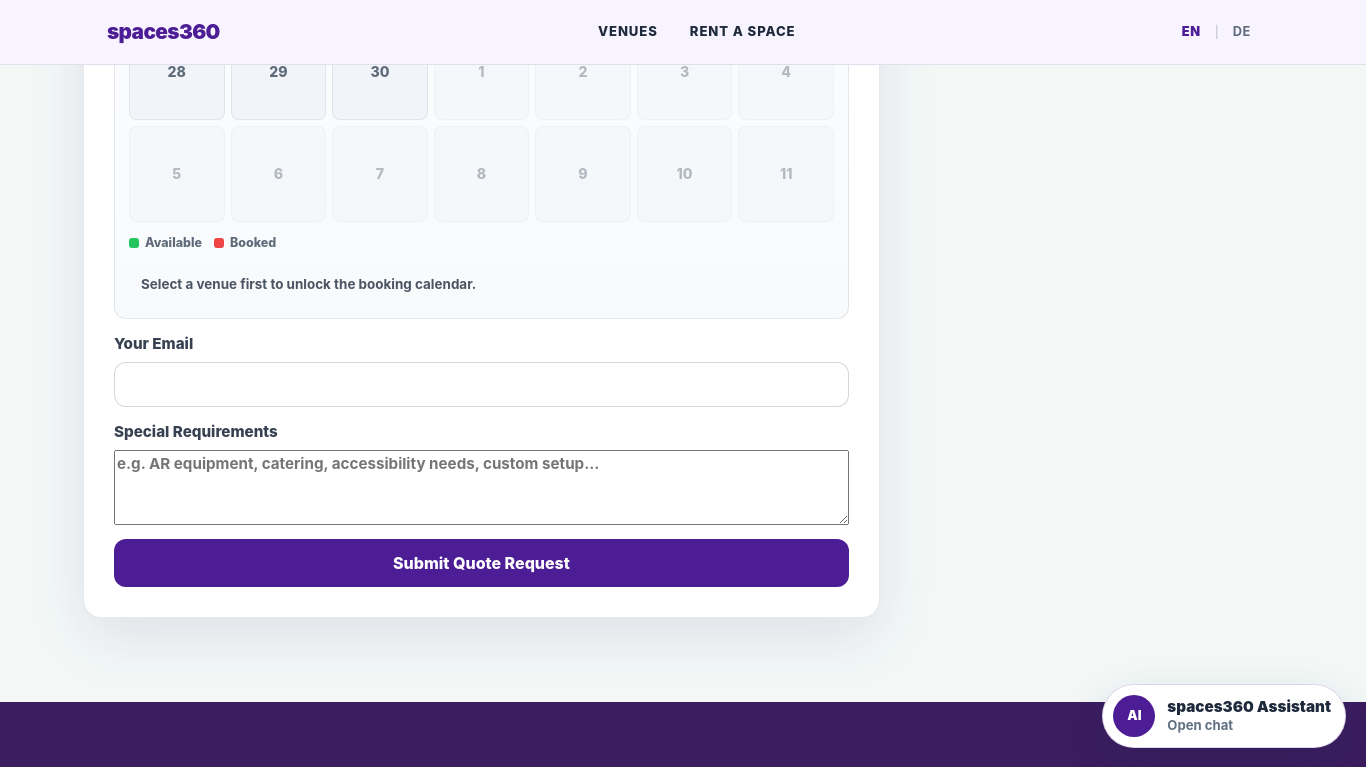
VenuePage › keeps date selection locked until a venue is selected
This screenshot has width=1366, height=767.
(page scrolled)
Type "planner@example.com" into the field labelled "Your Email" at (482, 385), box [114,362,849,408]
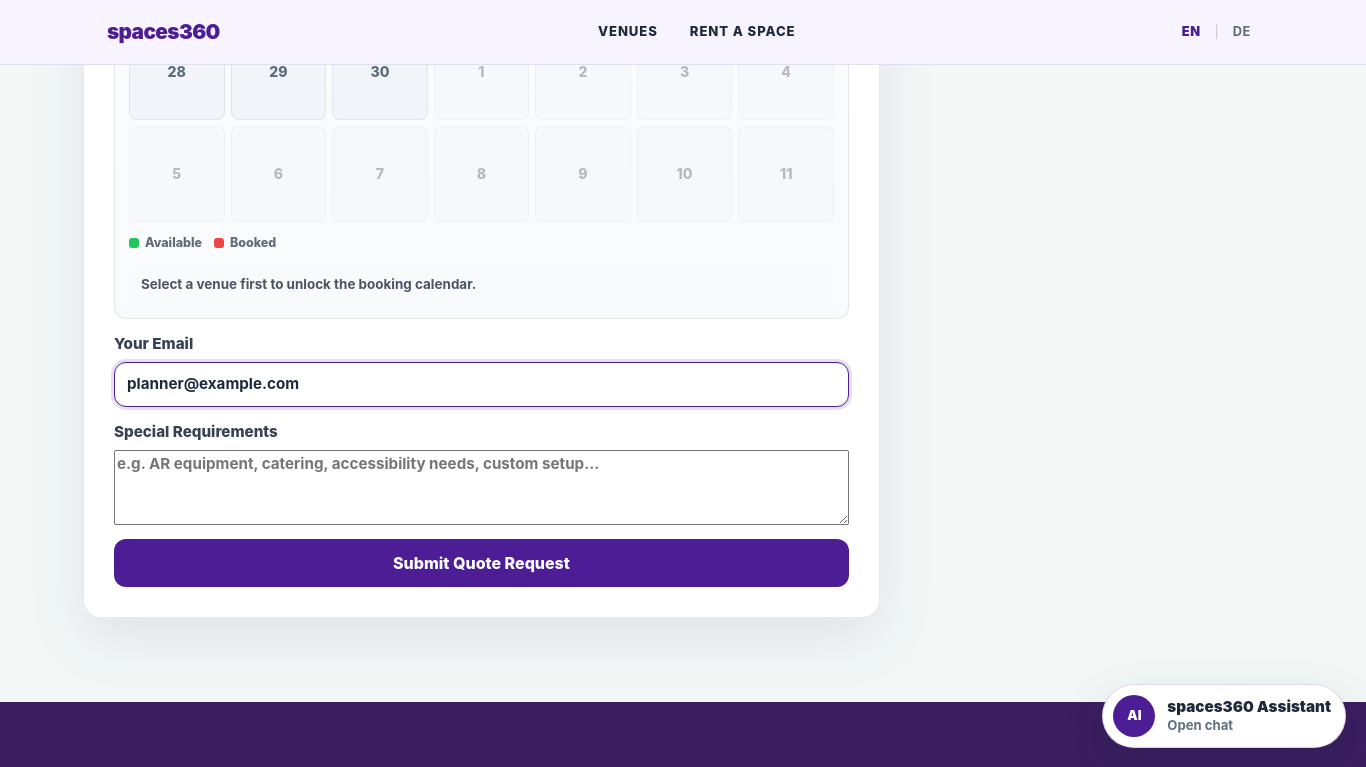
Click the button "Submit Quote Request" at (482, 563), box [114,539,849,587]
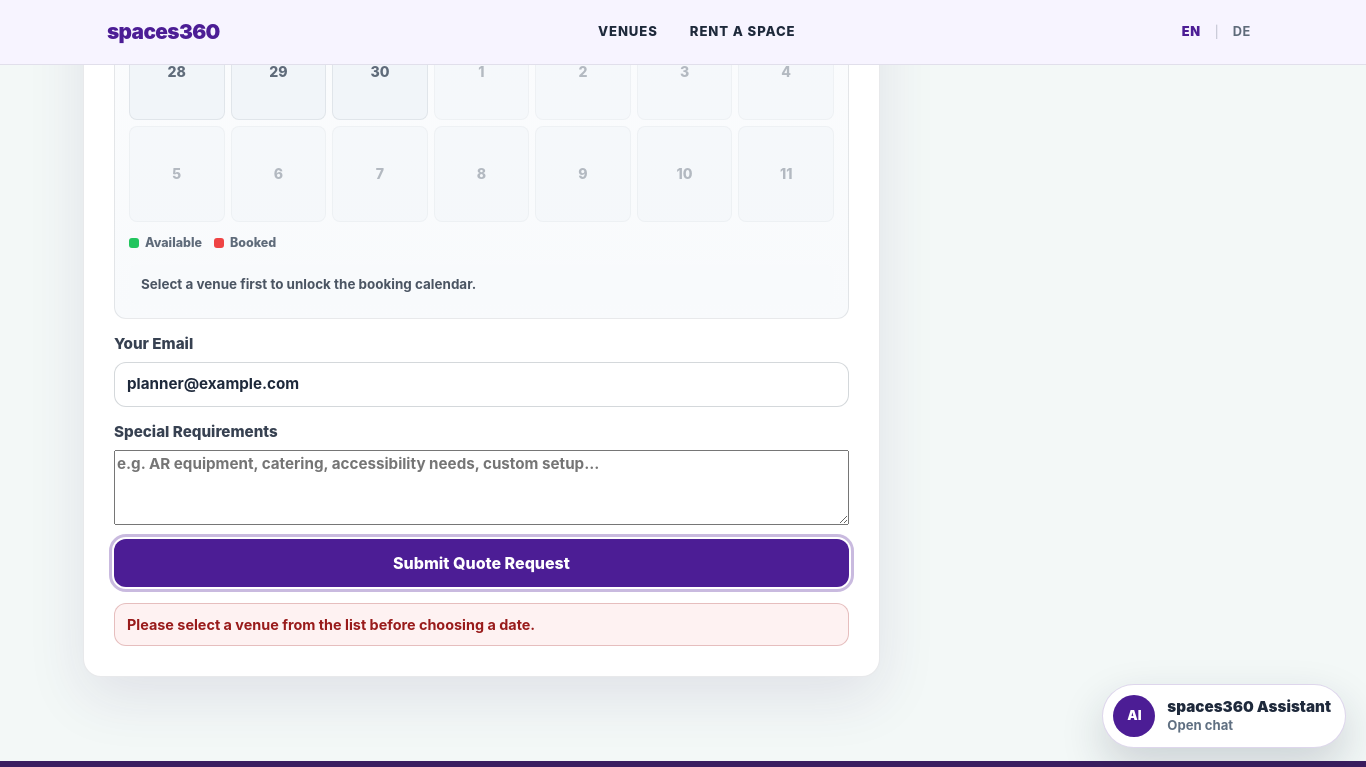
expect the text "Please select a venue from the list before choosing a date." is shown: met, box [114,603,849,646]
